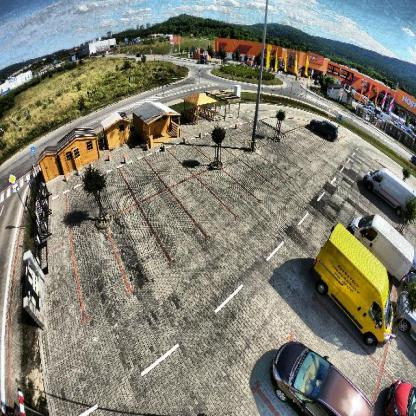free: (75, 245, 119, 317), (40, 256, 76, 334), (116, 223, 156, 289), (151, 203, 190, 265), (184, 190, 218, 236), (97, 176, 125, 211), (212, 178, 240, 212), (128, 164, 153, 197), (153, 153, 180, 182), (256, 156, 279, 188), (71, 190, 93, 223), (47, 198, 67, 232), (239, 166, 260, 193), (182, 146, 198, 170), (266, 149, 286, 165), (198, 138, 216, 155), (219, 131, 235, 147), (238, 125, 250, 142)
occupied: (312, 226, 390, 328), (270, 332, 351, 415), (357, 214, 415, 278), (358, 156, 416, 205), (306, 105, 344, 145)
